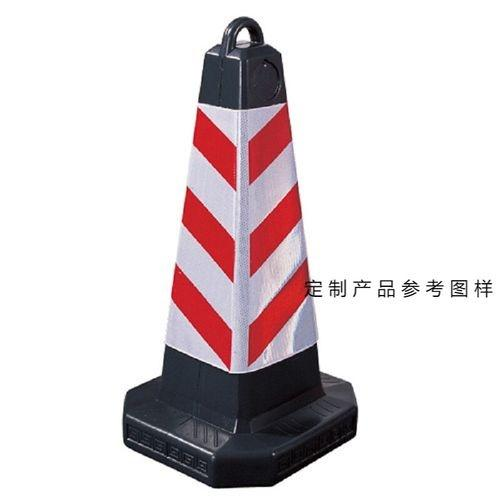cone_barrel: (116, 27, 358, 470)
